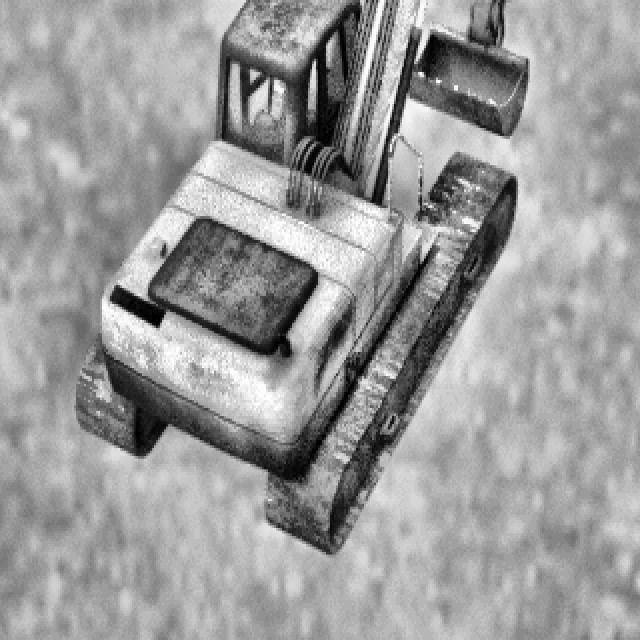excavator: (74, 0, 568, 555)
